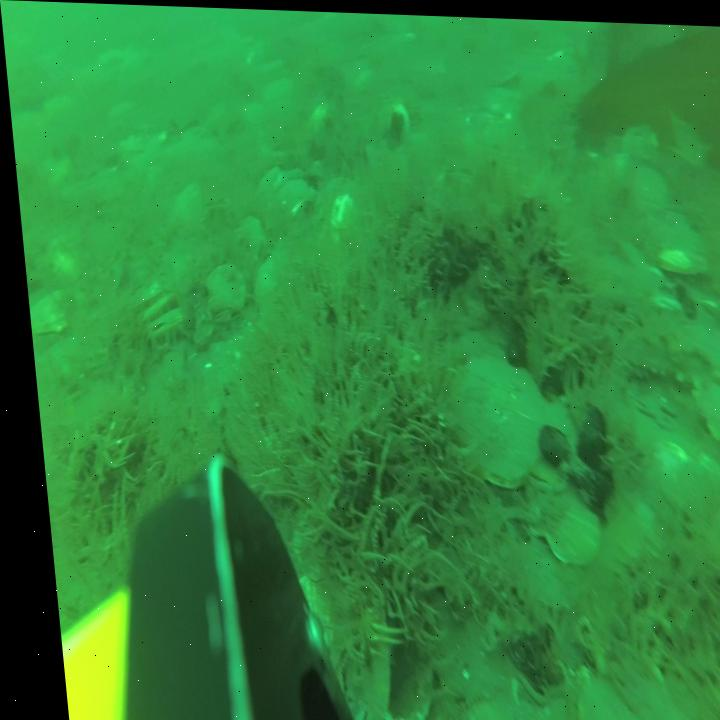holothurian: (607, 324, 698, 384)
scallop: (440, 343, 543, 485), (515, 388, 579, 481), (528, 479, 593, 565), (507, 529, 570, 611), (557, 665, 625, 720), (645, 203, 701, 264), (685, 372, 720, 464), (200, 259, 247, 324), (24, 287, 84, 336), (622, 160, 667, 213), (165, 183, 208, 238), (227, 210, 265, 264), (617, 111, 654, 158), (140, 309, 183, 341), (133, 293, 171, 328), (128, 278, 160, 307)
